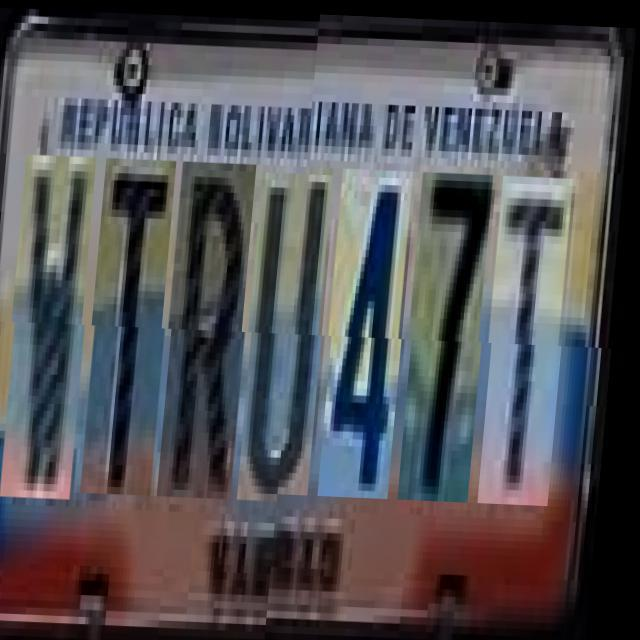4: (326, 172, 419, 502)
7: (406, 175, 499, 505)
R: (165, 160, 262, 497)
T: (90, 157, 182, 494), (486, 178, 579, 508)
U: (246, 170, 339, 500)
W: (9, 154, 103, 498)
